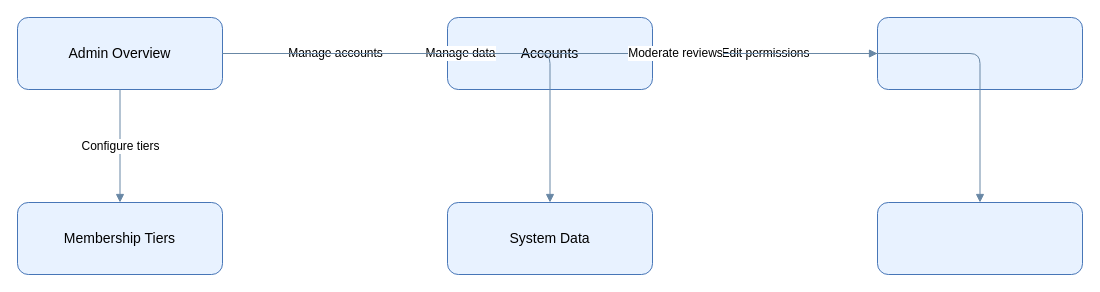
This 1100x292 diagram has some shape labels left out. Here are the shapes that lost their labels. From the top down, the box of each, then its label:
(876, 16, 1082, 90): Permissions
(876, 202, 1082, 274): Review Moderation
